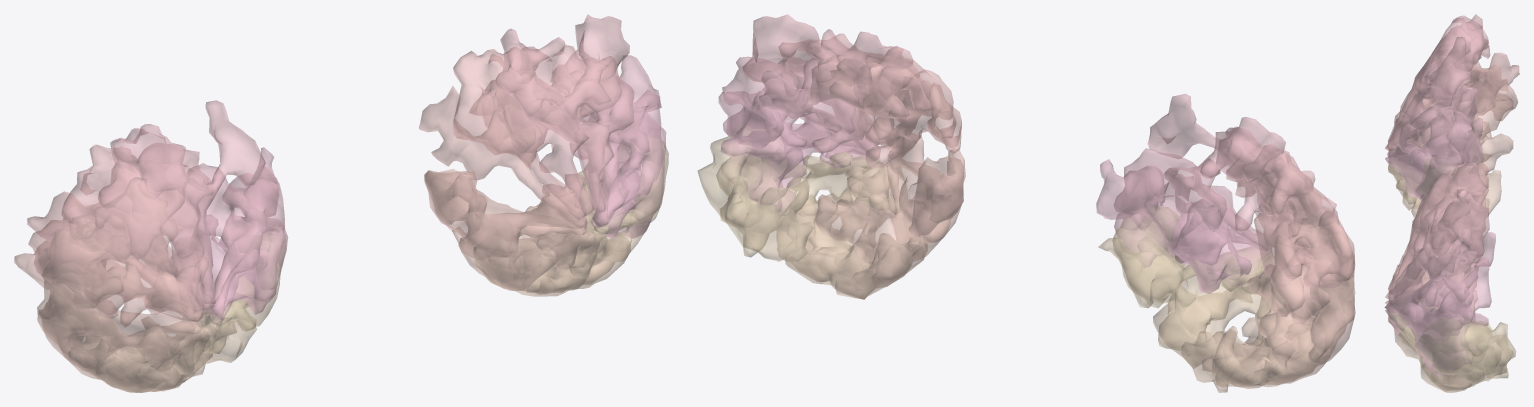
File: breast_lobes_female.glb
3 views of the same model, side by side, from view 1: azimuth 30°, elevation 25°; view 2: azimuth 150°, elevation 25°; view 3: azimuth 270°, elevation 25° (orthographic). The views are drawn at different scales.
Visible parts, largest first — view 1: VH_F_mammary_lobes_L.007, VH_F_mammary_lobes_L.005, VH_F_mammary_lobes_R.005, VH_F_mammary_lobes_R.004, VH_F_mammary_lobes_R.006, VH_F_mammary_lobes_L.003, VH_F_mammary_lobes_L.004, VH_F_mammary_lobes_L.009, VH_F_mammary_lobes_L.002, VH_F_mammary_lobes_L.010, VH_F_mammary_lobes_R.007, VH_F_mammary_lobes_L.001 (+22 smaller); view 2: VH_F_mammary_lobes_R.015, VH_F_mammary_lobes_L.015, VH_F_mammary_lobes_R.004, VH_F_mammary_lobes_L.001, VH_F_mammary_lobes_L.002, VH_F_mammary_lobes_L, VH_F_mammary_lobes_L.016, VH_F_mammary_lobes_L.003, VH_F_mammary_lobes_R, VH_F_mammary_lobes_R.010, VH_F_mammary_lobes_R.016, VH_F_mammary_lobes_R.005 (+22 smaller); view 3: VH_F_mammary_lobes_R.004, VH_F_mammary_lobes_R.016, VH_F_mammary_lobes_L.003, VH_F_mammary_lobes_R.001, VH_F_mammary_lobes_R, VH_F_mammary_lobes_L.002, VH_F_mammary_lobes_L.001, VH_F_mammary_lobes_R.002, VH_F_mammary_lobes_R.005, VH_F_mammary_lobes_R.015, VH_F_mammary_lobes_R.003, VH_F_mammary_lobes_R.006 (+18 smaller).
Part boxes in pixels (x1,y1,x2,y2): VH_F_mammary_lobes_L.007: (52,177,202,321); VH_F_mammary_lobes_L.005: (61,144,214,309); VH_F_mammary_lobes_R.005: (482,44,622,216); VH_F_mammary_lobes_R.004: (495,14,629,213); VH_F_mammary_lobes_R.006: (453,47,586,220); VH_F_mammary_lobes_L.003: (110,100,265,303); VH_F_mammary_lobes_L.004: (98,143,213,313); VH_F_mammary_lobes_L.009: (38,222,195,370); VH_F_mammary_lobes_L.002: (171,163,284,315); VH_F_mammary_lobes_L.010: (37,280,201,380); VH_F_mammary_lobes_R.007: (419,80,587,227); VH_F_mammary_lobes_L.001: (209,147,284,319); VH_F_mammary_lobes_R.015: (716,152,872,262); VH_F_mammary_lobes_L.015: (1098,236,1273,351); VH_F_mammary_lobes_R.004: (742,14,913,145); VH_F_mammary_lobes_L.001: (1096,159,1270,265); VH_F_mammary_lobes_L.002: (1114,148,1262,246); VH_F_mammary_lobes_L: (1114,199,1271,293); VH_F_mammary_lobes_L.016: (1112,207,1272,307); VH_F_mammary_lobes_L.003: (1147,93,1285,232); VH_F_mammary_lobes_R: (720,106,866,215); VH_F_mammary_lobes_R.010: (814,162,927,285); VH_F_mammary_lobes_R.016: (697,124,869,257); VH_F_mammary_lobes_R.005: (778,33,922,147); VH_F_mammary_lobes_R.004: (1388,161,1489,301); VH_F_mammary_lobes_R.016: (1389,313,1516,381); VH_F_mammary_lobes_L.003: (1388,15,1488,147); VH_F_mammary_lobes_R.001: (1388,257,1491,338); VH_F_mammary_lobes_R: (1387,286,1488,375); VH_F_mammary_lobes_L.002: (1387,84,1476,171); VH_F_mammary_lobes_L.001: (1389,111,1483,201); VH_F_mammary_lobes_R.002: (1385,221,1495,314); VH_F_mammary_lobes_R.005: (1389,188,1485,296); VH_F_mammary_lobes_R.015: (1388,300,1513,383); VH_F_mammary_lobes_R.003: (1384,208,1470,312); VH_F_mammary_lobes_R.006: (1388,162,1488,291).
Bounding box in the file's own units: 0.2662 × 0.1092 × 0.062.
